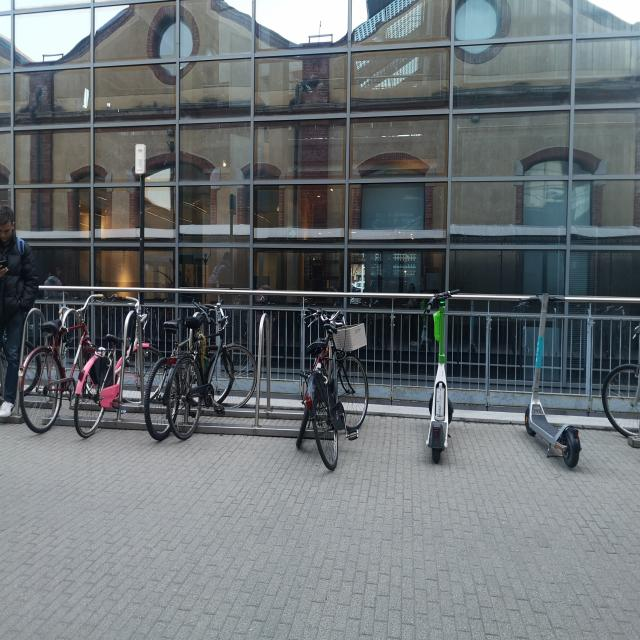Bicycle: (311, 263, 397, 482), (504, 275, 581, 486), (170, 302, 262, 447), (75, 288, 160, 443), (414, 270, 474, 470), (24, 288, 89, 432), (148, 284, 192, 454), (286, 293, 314, 459)
